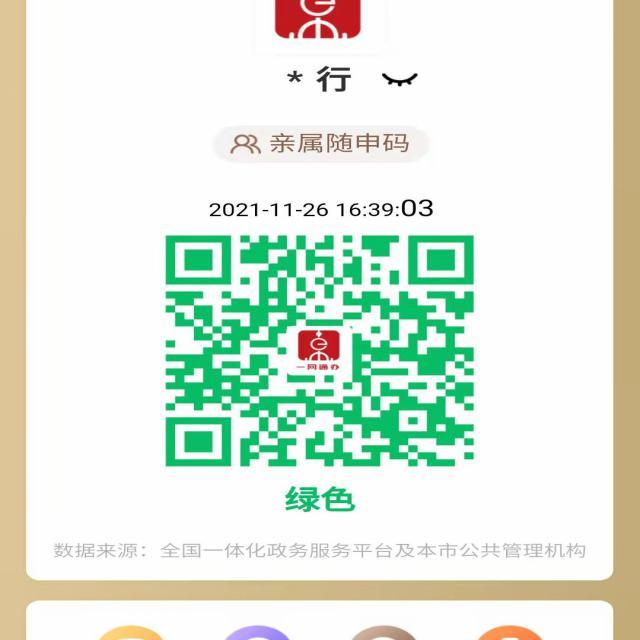qr_code: (164, 235, 476, 468)
